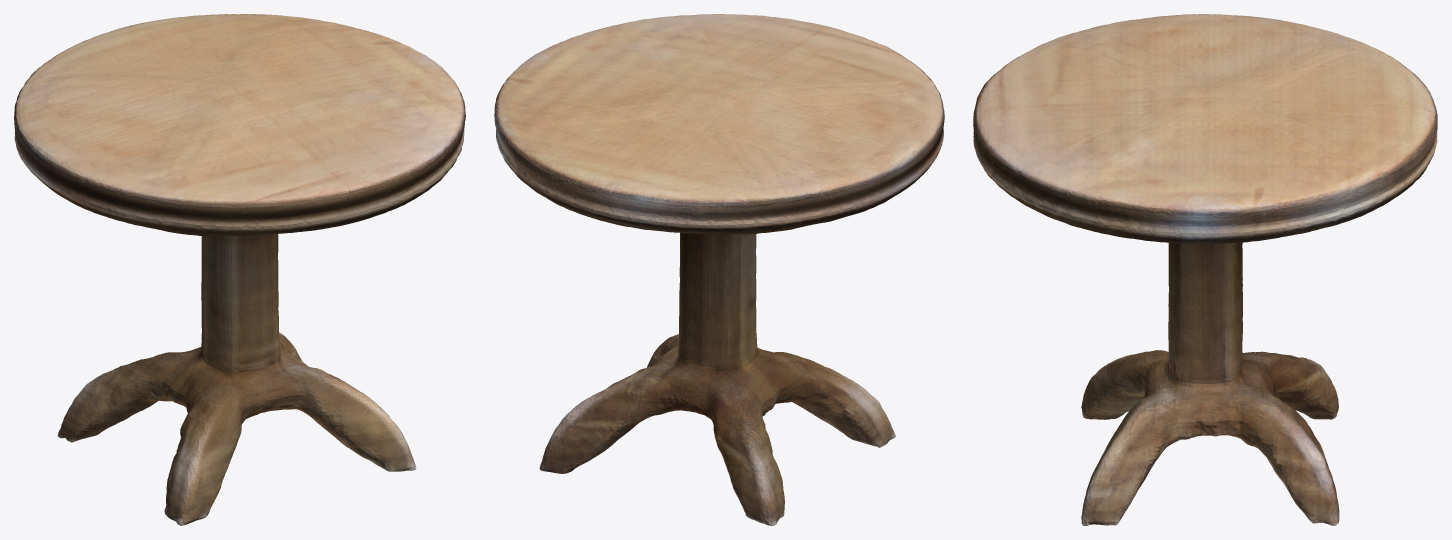
Rendered from small round wooden table.glb.
3 views of the same model, side by side, from view 1: azimuth 30°, elevation 25°; view 2: azimuth 150°, elevation 25°; view 3: azimuth 270°, elevation 25° (orthographic). The views are drawn at different scales.
Size of the model in its own units: 1 by 0.8787 by 0.9983.
Materials: 1 (1 with a texture image).
